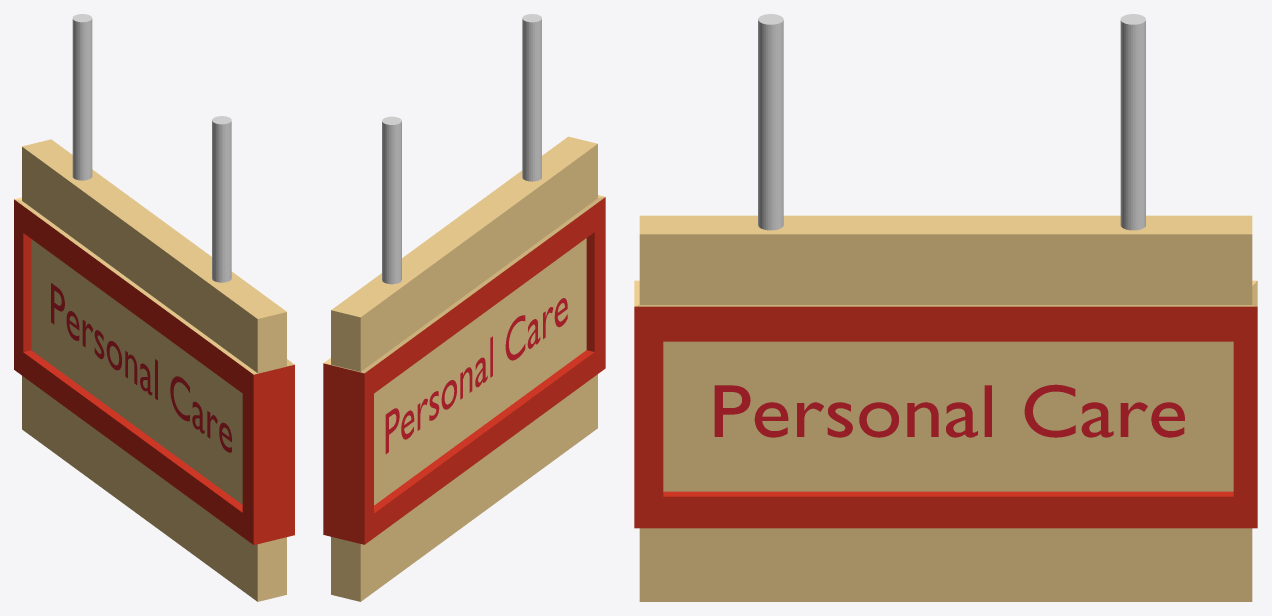
File: personalCareSign.fbx
3 renders of one model, left to right at view 1: azimuth 30°, elevation 25°; view 2: azimuth 150°, elevation 25°; view 3: azimuth 270°, elevation 25°, orthographic. The views are drawn at different scales.
Visible parts, largest first — view 1: baseSign, Cylinder.001, Cylinder.000, BaseText.001; view 2: baseSign, Cylinder.001, Cylinder.000, BaseText.001; view 3: baseSign, BaseText.000, Cylinder.001, Cylinder.000.
Boxes of the visible parts, x1,y1,x2,y2 form: baseSign: (14,139,294,601); Cylinder.001: (72,14,92,180); Cylinder.000: (212,116,231,282); BaseText.001: (51,283,231,452); baseSign: (323,136,605,601); Cylinder.001: (382,116,401,284); Cylinder.000: (522,14,541,181); BaseText.001: (385,298,567,453); baseSign: (634,215,1257,601); BaseText.000: (714,384,1184,437); Cylinder.001: (1120,14,1145,230); Cylinder.000: (758,14,783,230).
Size of the model in its own units: 42.35 by 434 by 427.
